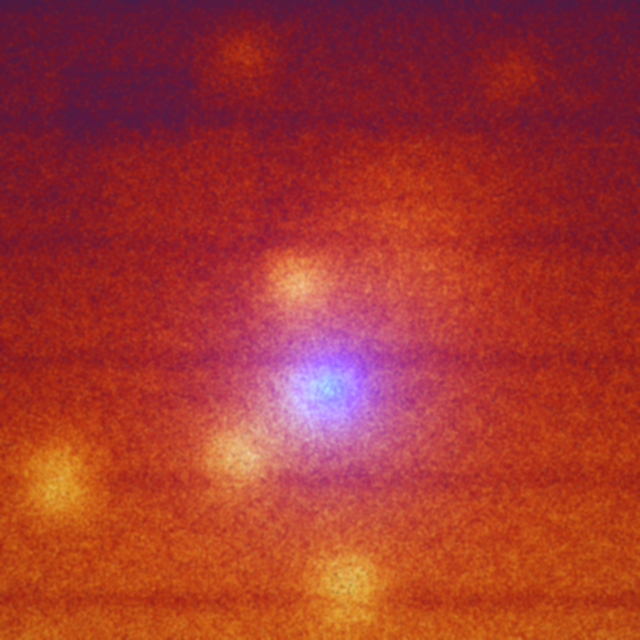nozzle: (277, 339, 395, 442)
